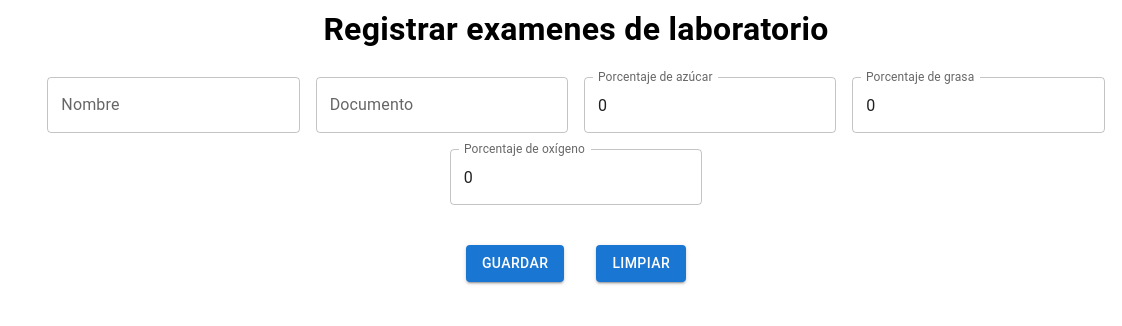
Test: Test en componente Home › Valida que el documento ya se encuentra en la db
In the field labelled "Documento": (442,105) [316,77,568,133], type "102045"
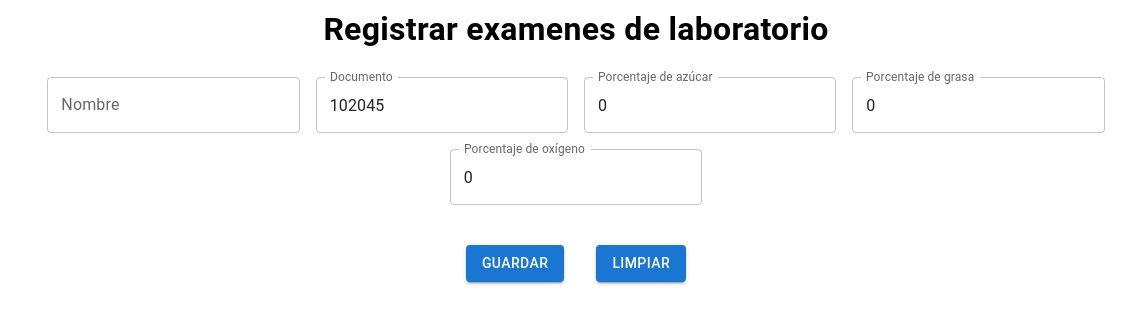
Click the button with test id "btn-guardar": (515,263) [466,245,564,282]
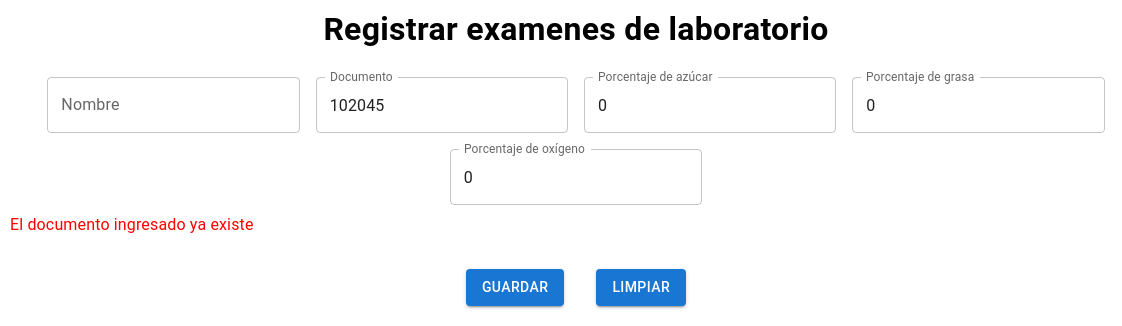
Check: the text with test id "msg-error" reads "El documento ingresado ya existe", box [10,215,254,234]
